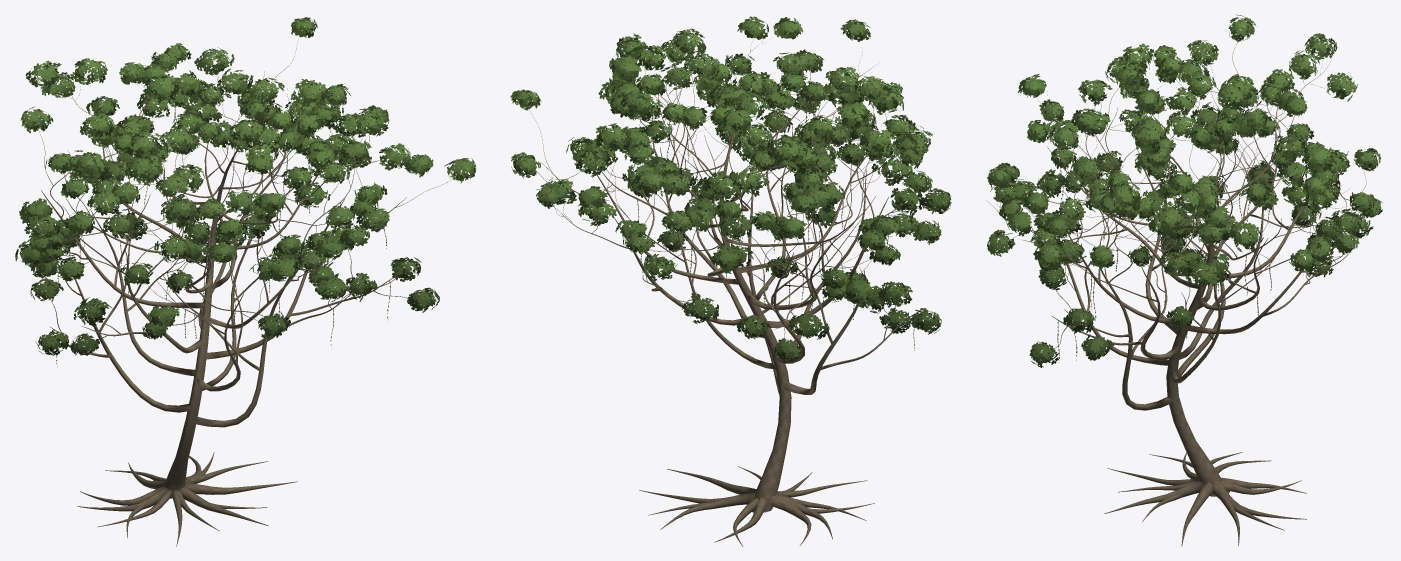
File: tree.gltf
The picture shows the model from 3 angles, left to right: view 1: azimuth 30°, elevation 25°; view 2: azimuth 150°, elevation 25°; view 3: azimuth 270°, elevation 25°; orthographic projection. The views are drawn at different scales.
Visible parts, largest first — view 1: Tree_LOD0; view 2: Tree_LOD0; view 3: Tree_LOD0.
Part boxes in pixels (x1,y1,x2,y2): Tree_LOD0: [15, 17, 476, 546]; Tree_LOD0: [510, 16, 951, 546]; Tree_LOD0: [986, 14, 1382, 546].
Size of the model in its own units: 108 by 114 by 98.14.
Materials: 2 (2 with a texture image).
